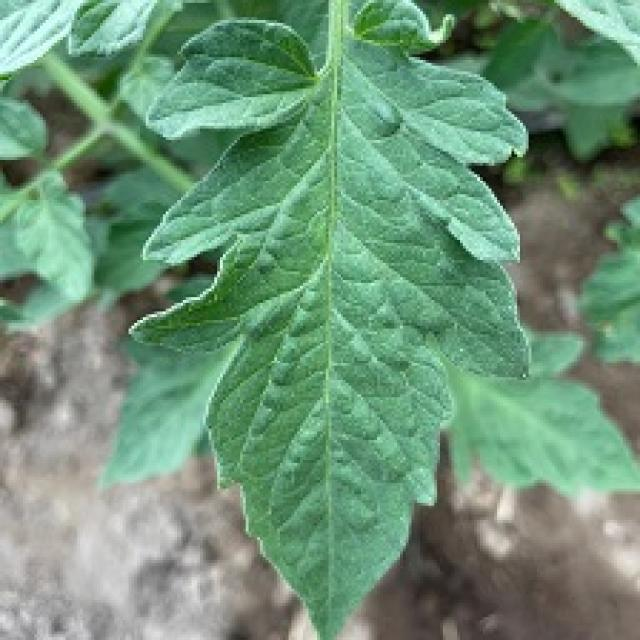Healthy: (131, 0, 529, 637)
